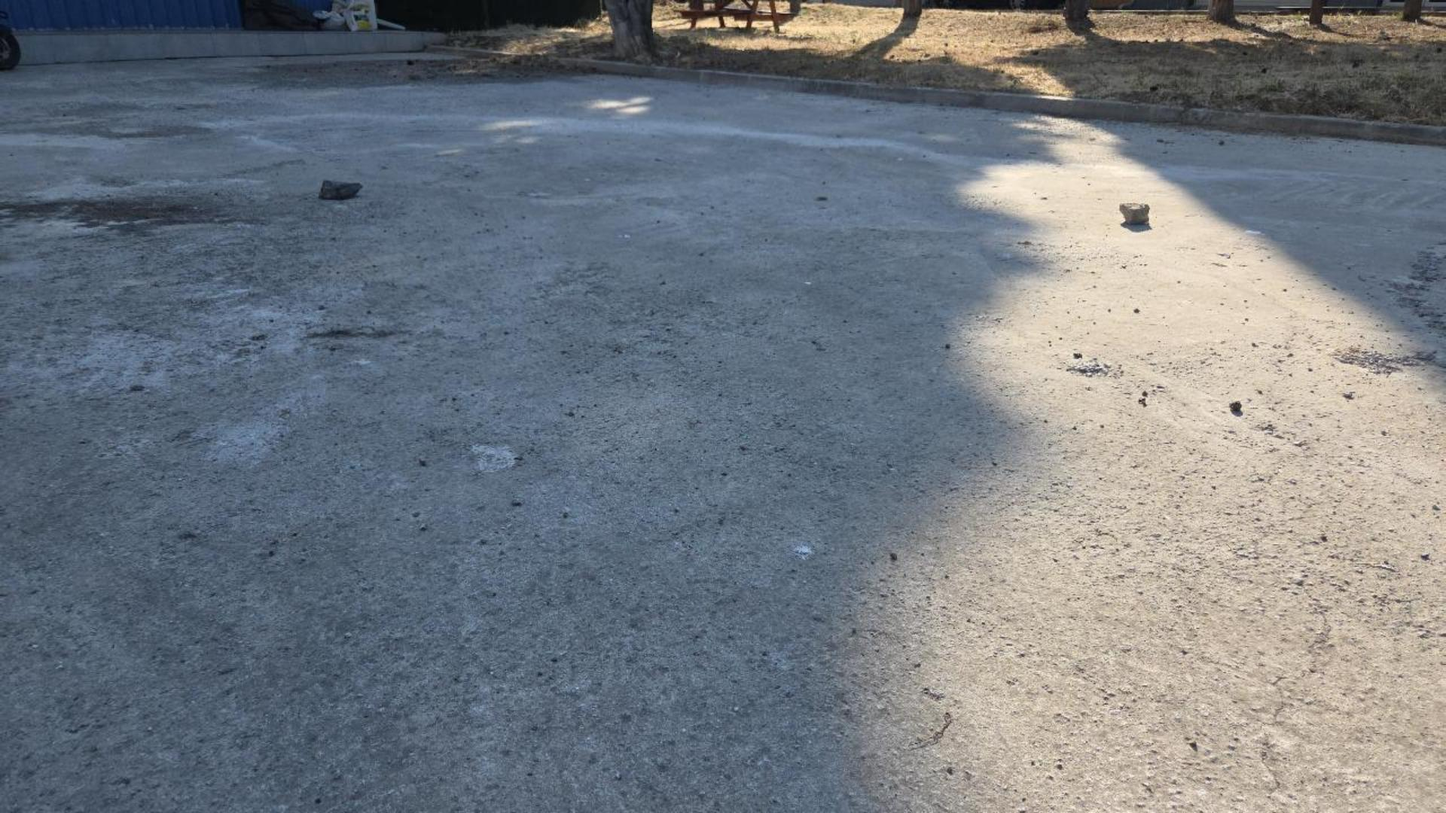rock: (319, 182, 362, 199), (1120, 203, 1149, 224)
